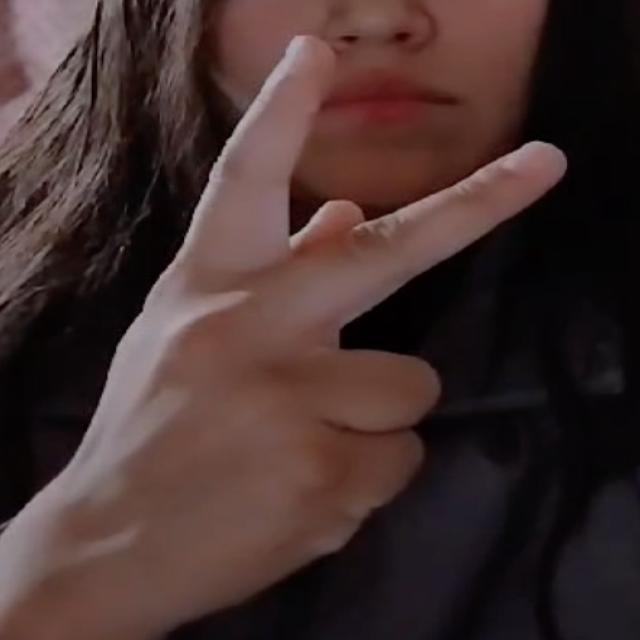K: (8, 25, 592, 640)
